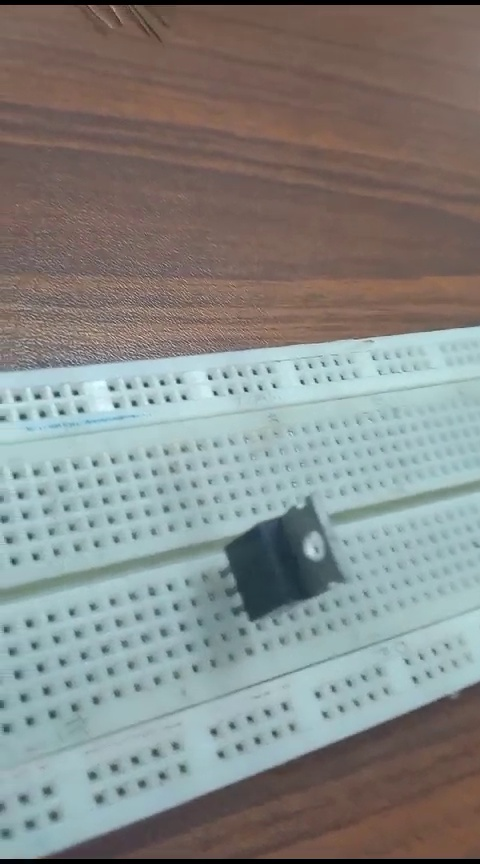voltage regulator: (209, 496, 357, 628)
